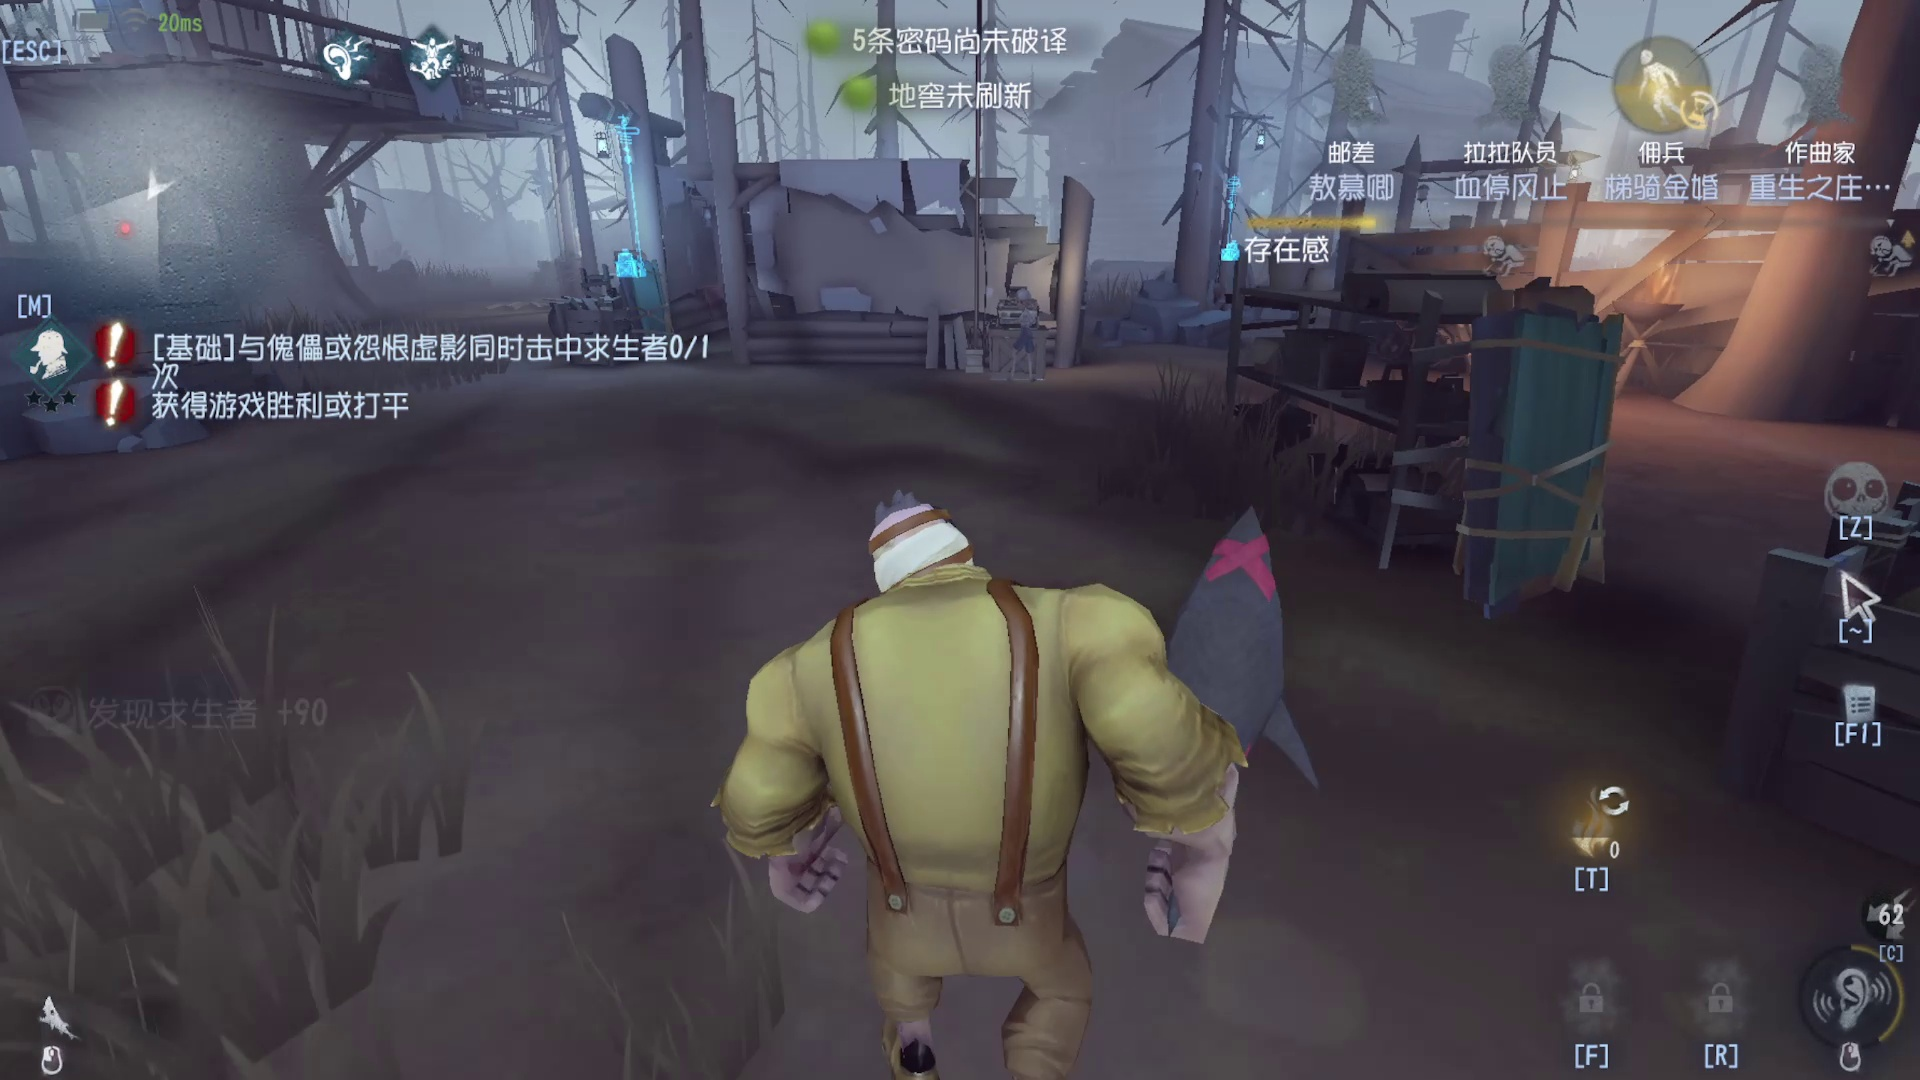密码机: (942, 215, 1073, 430), (589, 84, 662, 284), (1191, 113, 1251, 286)
木板: (1455, 262, 1626, 634)
求生者: (1005, 293, 1040, 378)
